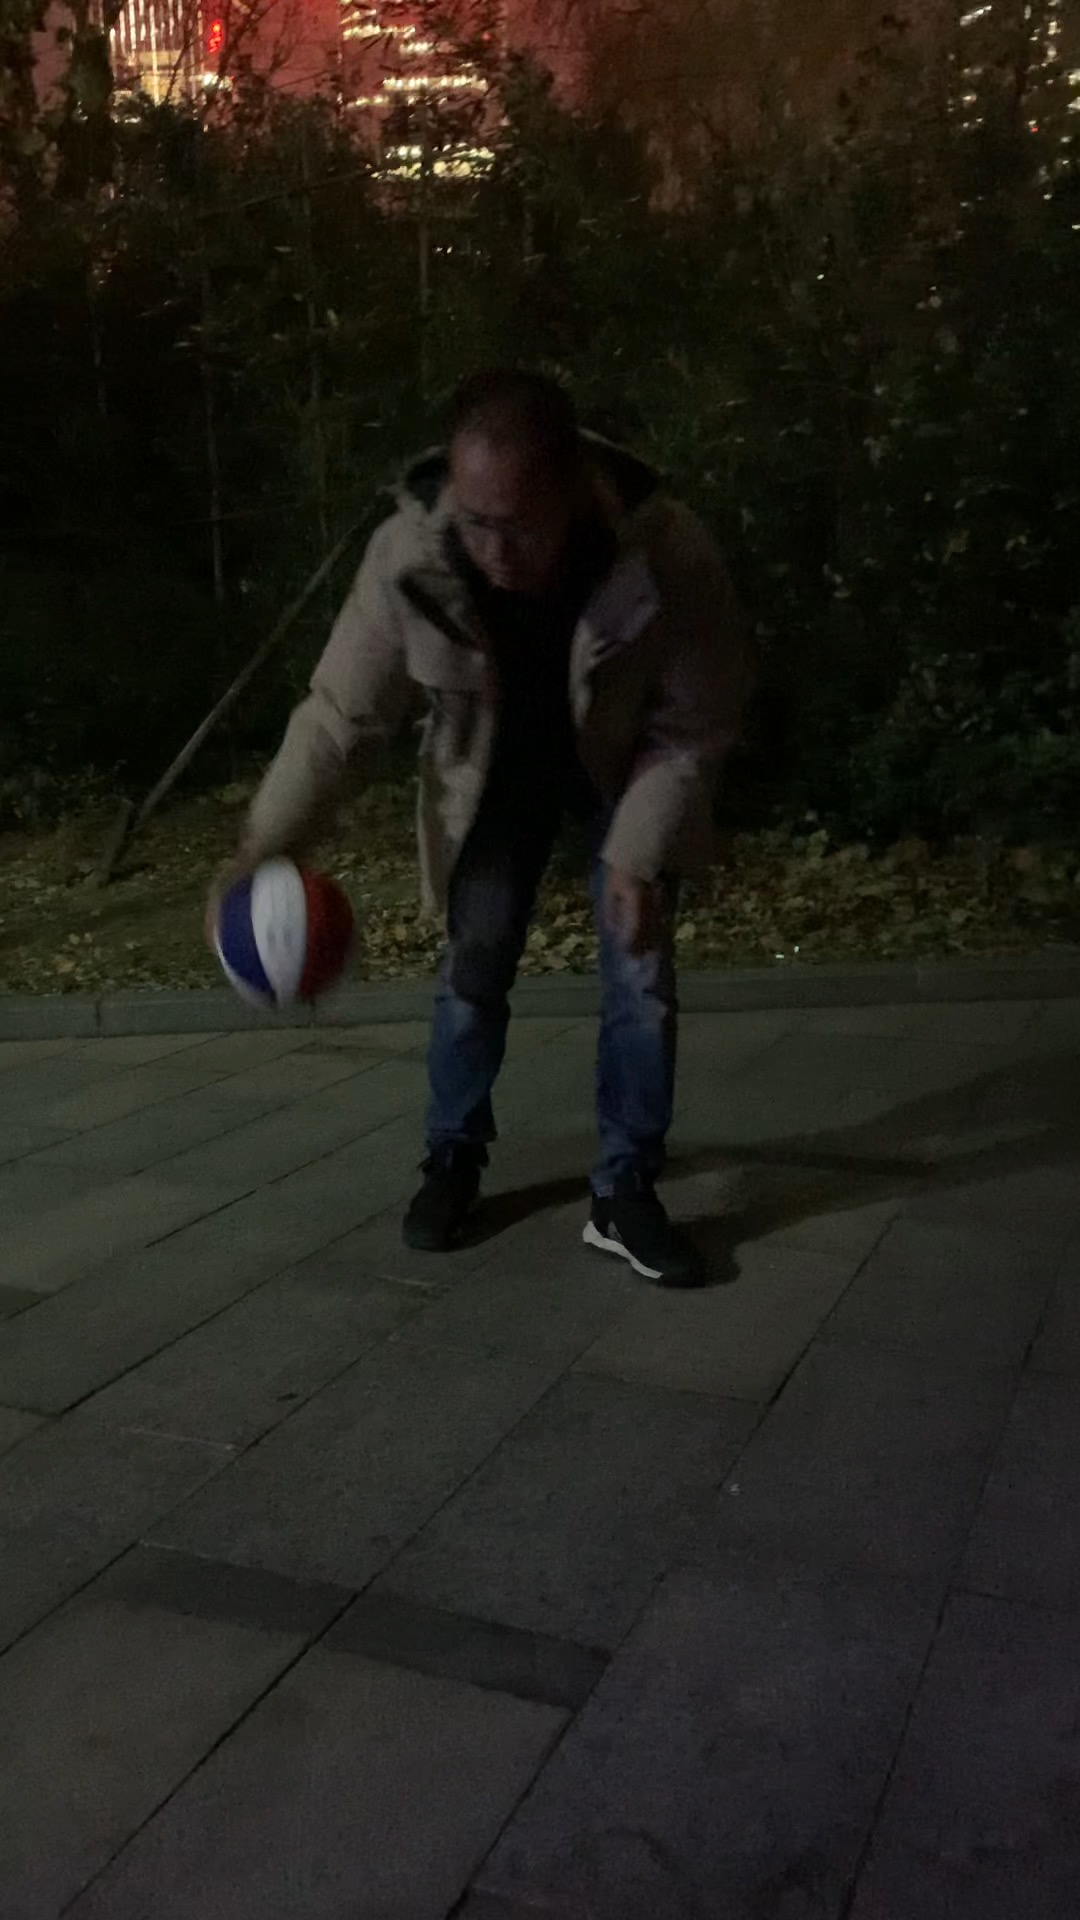ball: (214, 858, 364, 1007)
